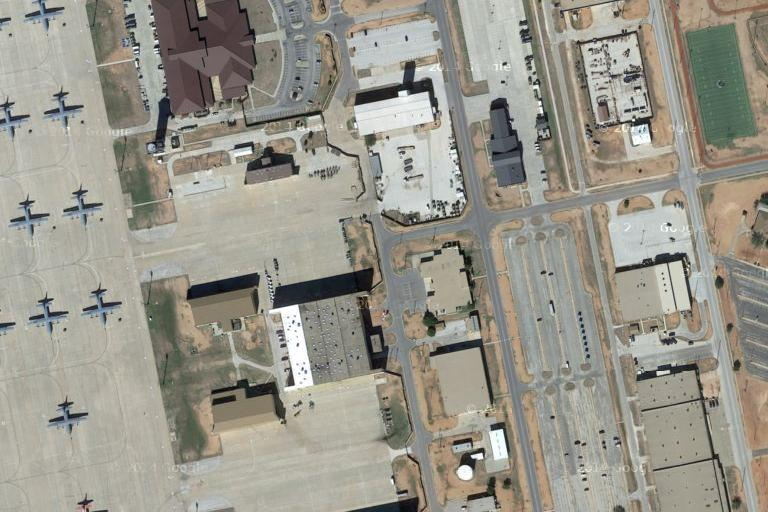C-130: (60, 189, 104, 229), (40, 92, 87, 129), (25, 298, 69, 337), (8, 199, 52, 237), (45, 403, 92, 437), (79, 287, 122, 323), (22, 2, 67, 33), (1, 101, 32, 139)
